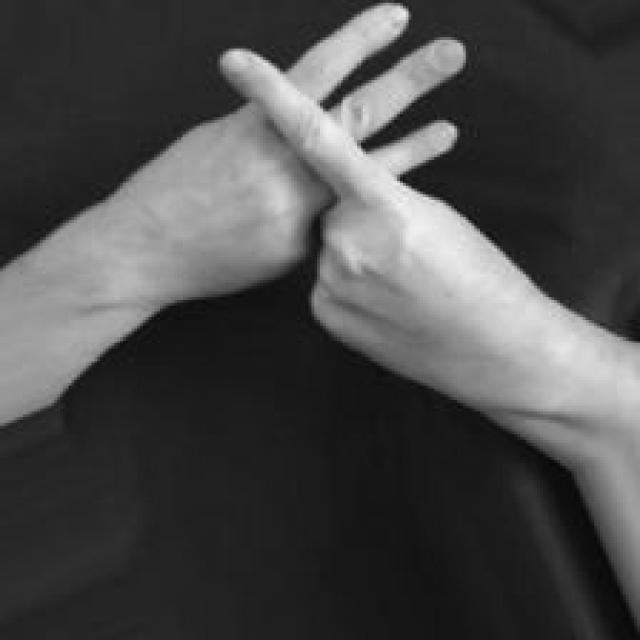E: (155, 0, 538, 421)
